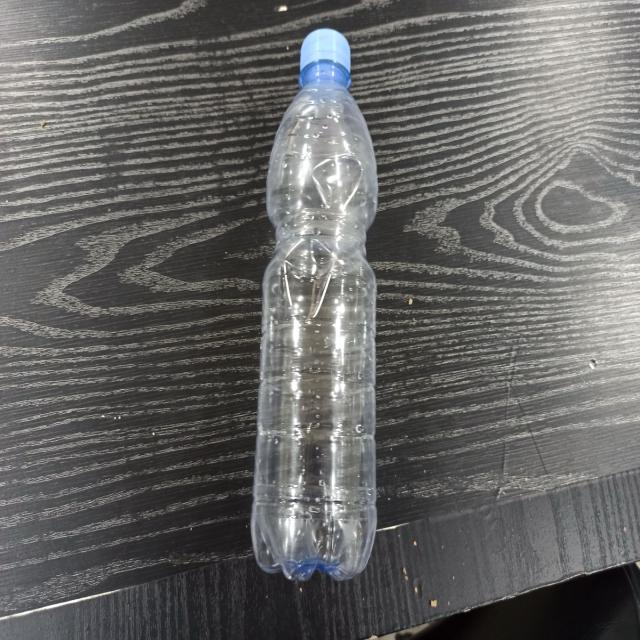BotolPlastik: (250, 26, 380, 582)
